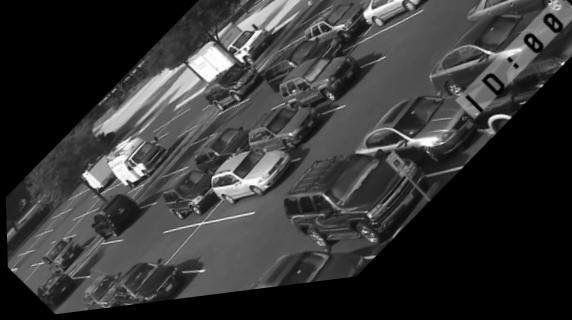empty: (164, 217, 252, 270), (346, 26, 421, 70), (196, 108, 244, 144), (162, 142, 206, 178), (129, 236, 181, 262), (73, 246, 118, 275), (277, 25, 314, 56), (146, 116, 185, 145), (138, 175, 175, 205), (305, 0, 345, 27), (245, 98, 279, 127), (65, 211, 97, 237), (86, 187, 119, 212), (68, 195, 97, 217), (49, 218, 76, 240), (23, 243, 52, 263), (57, 193, 83, 213), (21, 265, 44, 287), (21, 232, 49, 249), (40, 213, 66, 230), (76, 221, 94, 244), (6, 253, 29, 268), (13, 265, 33, 281), (29, 287, 37, 296)
occupied: (283, 167, 441, 249), (428, 24, 569, 103), (350, 104, 491, 162), (209, 153, 292, 215), (248, 259, 368, 296), (278, 64, 361, 117), (248, 113, 326, 159), (203, 61, 264, 118), (111, 264, 187, 309), (104, 139, 169, 189), (468, 0, 572, 31), (264, 46, 328, 95), (188, 131, 247, 180), (89, 196, 147, 245), (362, 0, 434, 37), (160, 175, 212, 225), (304, 12, 365, 51), (34, 272, 77, 309), (40, 237, 81, 274), (81, 278, 119, 312)
